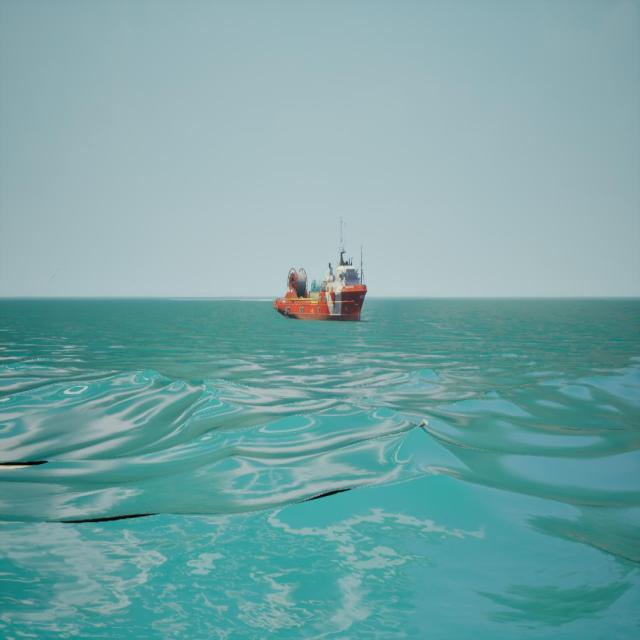tug boat: (277, 217, 369, 324)
